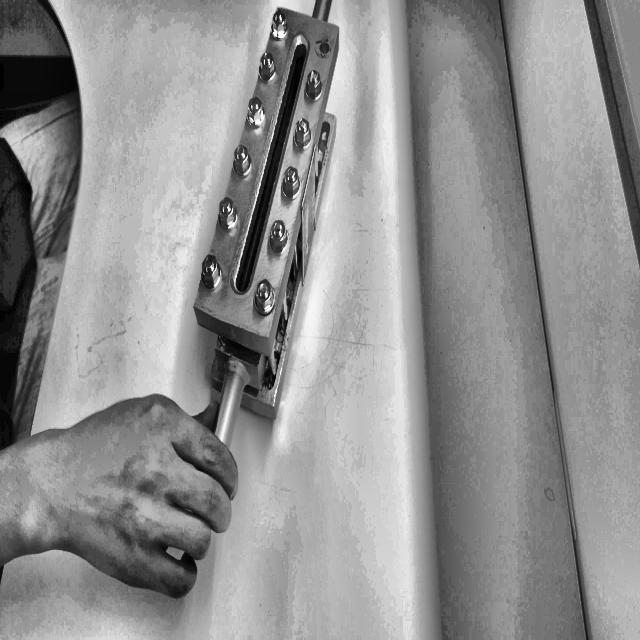ShuiWeiQi_11: (176, 2, 367, 426)
